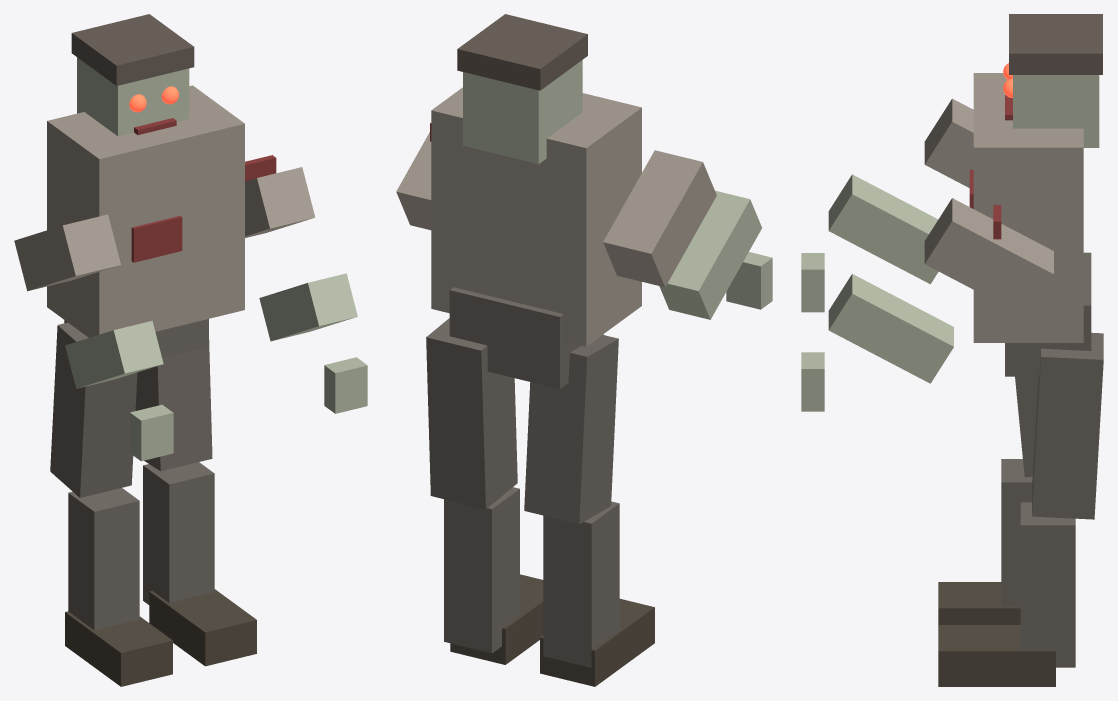
The model's file is walker_zombie_male.glb.
3 renders of one model, left to right at view 1: azimuth 30°, elevation 25°; view 2: azimuth 150°, elevation 25°; view 3: azimuth 270°, elevation 25°, orthographic. The views are drawn at different scales.
Parts seen in each view (by area): view 1: torso_mesh, thigh_l, shin_r, shin_l, thigh_r, hair_mesh, foot_r, upper_arm_l, foot_l, head_mesh, forearm_l, forearm_r (+6 smaller); view 2: torso_mesh, thigh_l, thigh_r, shin_r, shin_l, upper_arm_l, head_mesh, pelvis_mesh, forearm_l, hair_mesh, foot_l, foot_r (+2 smaller); view 3: torso_mesh, thigh_r, upper_arm_r, shin_r, forearm_r, forearm_l, foot_r, hair_mesh, head_mesh, shin_l, upper_arm_l, foot_l (+4 smaller).
Boxes of the visible parts, x1,y1,x2,y2 form: torso_mesh: [47, 85, 244, 337]; thigh_l: [50, 322, 137, 497]; shin_r: [143, 462, 214, 604]; shin_l: [68, 488, 139, 630]; thigh_r: [135, 340, 212, 471]; hair_mesh: [71, 14, 194, 85]; foot_r: [149, 589, 256, 666]; upper_arm_l: [14, 214, 120, 291]; foot_l: [65, 611, 172, 686]; head_mesh: [77, 57, 189, 136]; forearm_l: [65, 320, 163, 388]; forearm_r: [259, 273, 357, 341]; torso_mesh: [431, 87, 641, 346]; thigh_l: [524, 335, 618, 524]; thigh_r: [426, 318, 517, 509]; shin_r: [444, 487, 519, 653]; shin_l: [543, 501, 619, 667]; upper_arm_l: [603, 150, 716, 287]; head_mesh: [463, 60, 582, 164]; pelvis_mesh: [449, 287, 603, 388]; forearm_l: [659, 190, 761, 319]; hair_mesh: [457, 14, 587, 90]; foot_l: [540, 598, 654, 686]; foot_r: [450, 574, 543, 664]; torso_mesh: [973, 73, 1083, 342]; thigh_r: [1032, 332, 1103, 519]; upper_arm_r: [924, 198, 1053, 317]; shin_r: [1020, 502, 1075, 667]; forearm_r: [828, 274, 953, 383]; forearm_l: [828, 174, 938, 284]; foot_r: [938, 625, 1055, 686]; hair_mesh: [1009, 14, 1102, 74]; head_mesh: [1013, 75, 1099, 147]; shin_l: [1001, 459, 1032, 606]; upper_arm_l: [924, 98, 973, 187]; foot_l: [938, 582, 1020, 624].
Size of the model in its own units: 0.74 by 1.74 by 0.7717.
